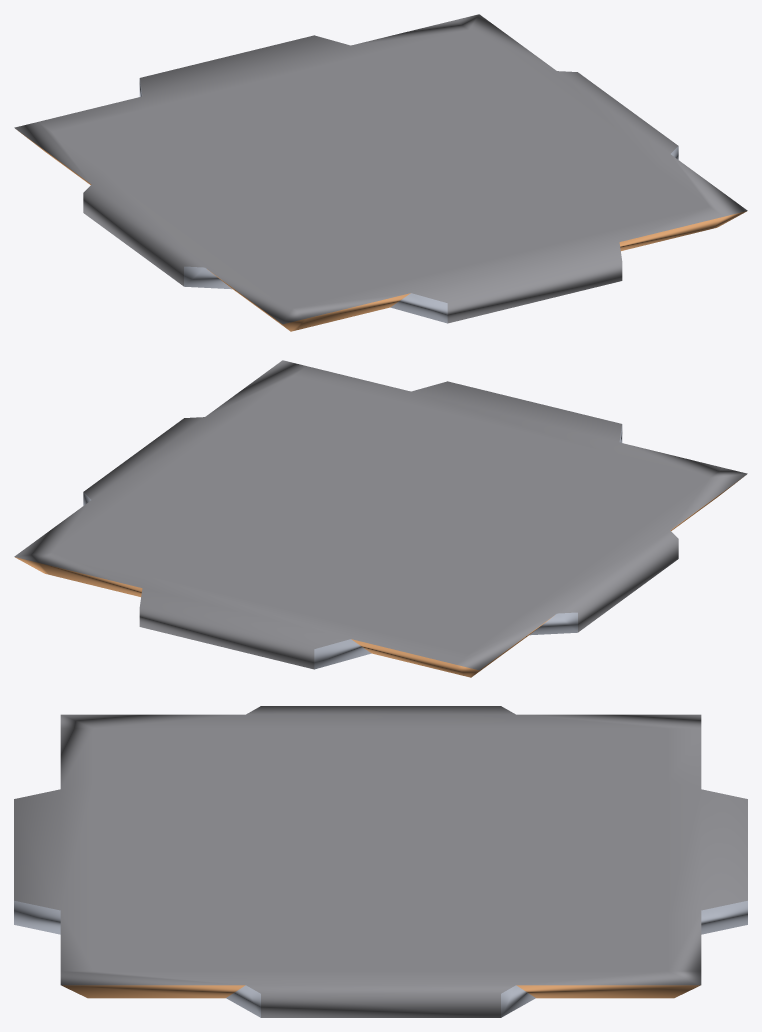
The model's file is dssfloatingpad.glb.
3 renders of one model, top to bottom at view 1: azimuth 30°, elevation 25°; view 2: azimuth 150°, elevation 25°; view 3: azimuth 270°, elevation 25°, orthographic. The views are drawn at different scales.
Visible parts, largest first — view 1: dssfloatingpad; view 2: dssfloatingpad; view 3: dssfloatingpad.
Part boxes in pixels (left/top/right/bottom): dssfloatingpad: left=14, top=14, right=747, bottom=331; dssfloatingpad: left=14, top=360, right=747, bottom=677; dssfloatingpad: left=14, top=706, right=747, bottom=1017.
Bounding box in the file's own units: 12.75 × 1.5 × 13.75.
